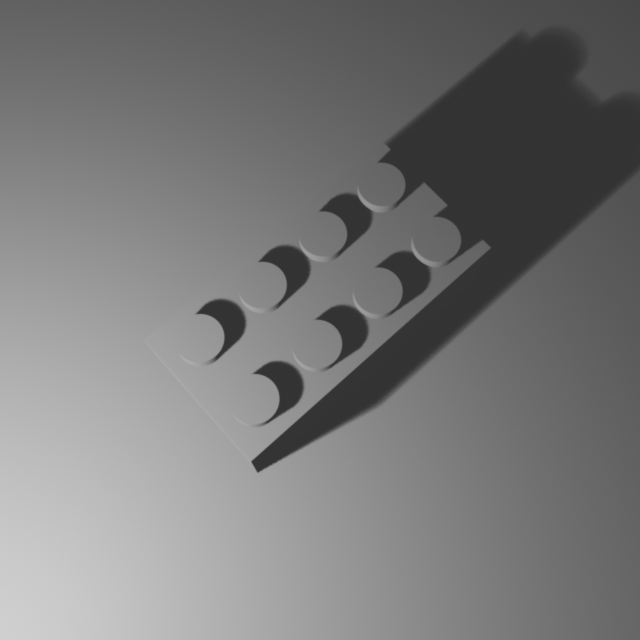lego_2x4: (141, 134, 494, 473)
